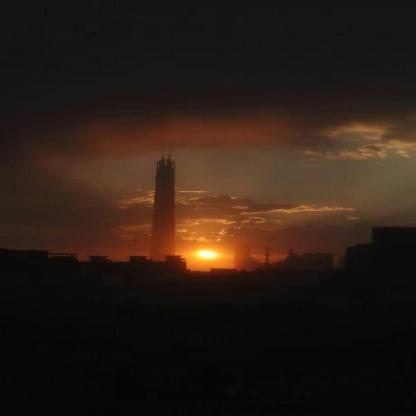other: (182, 240, 249, 267)
